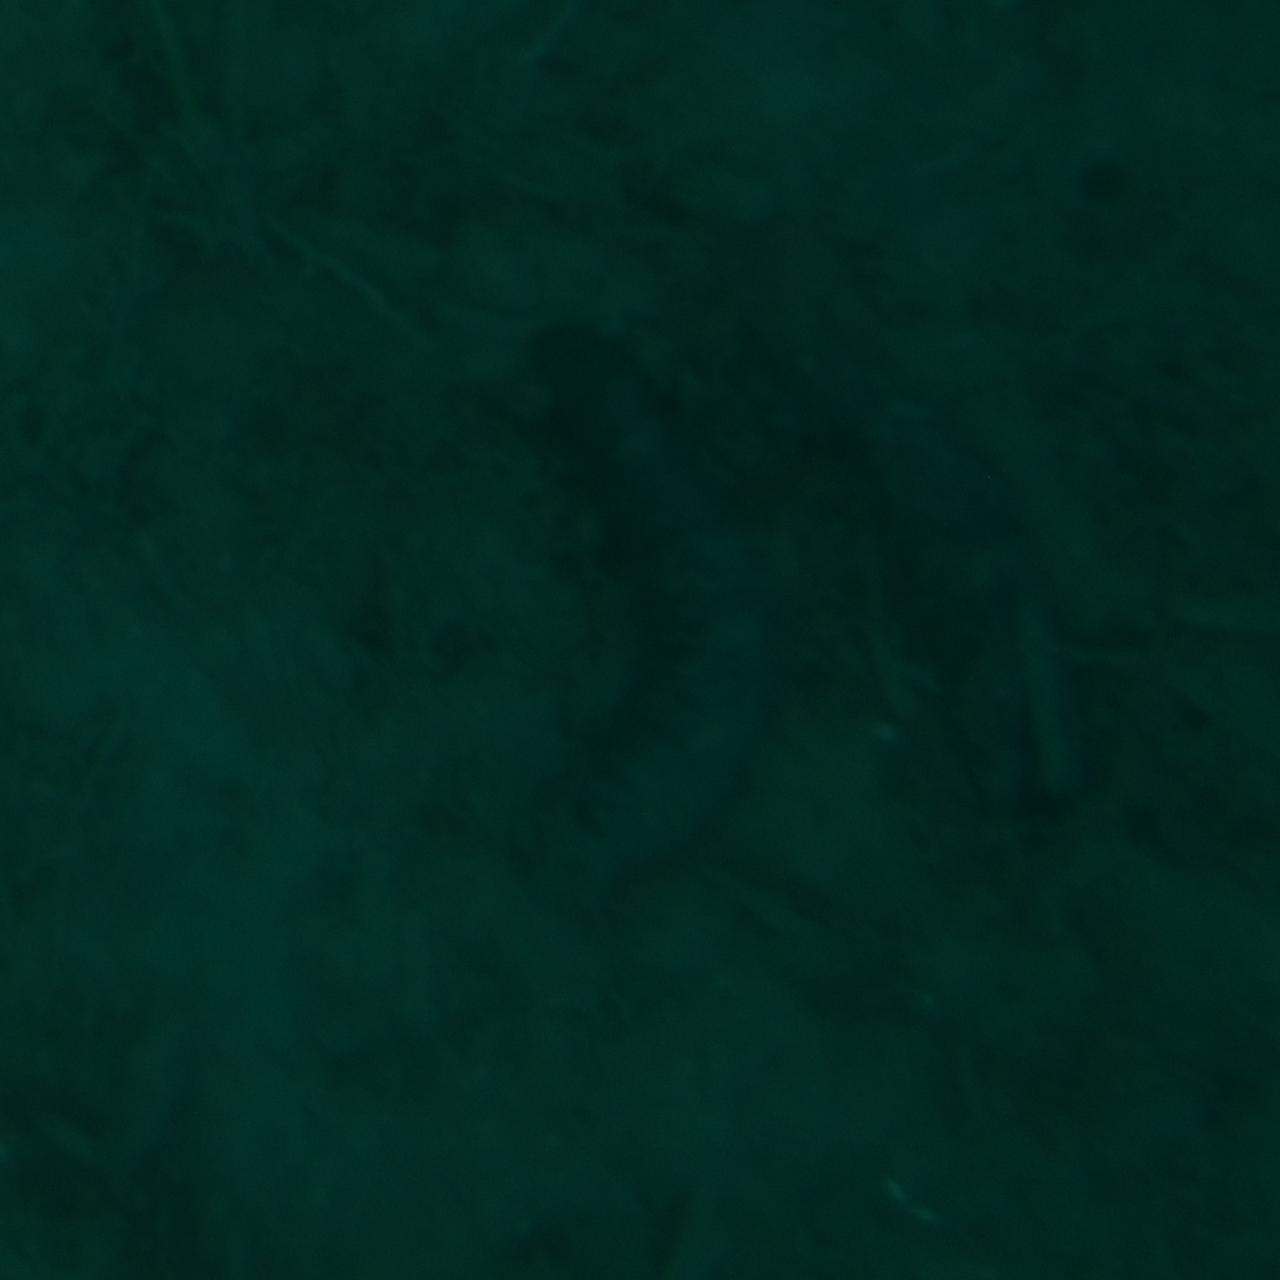Holothuria tubulosa: (503, 315, 777, 965)
